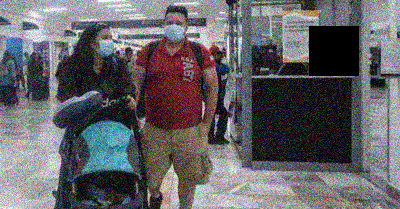with_mask: (95, 33, 116, 59), (165, 19, 186, 43)
